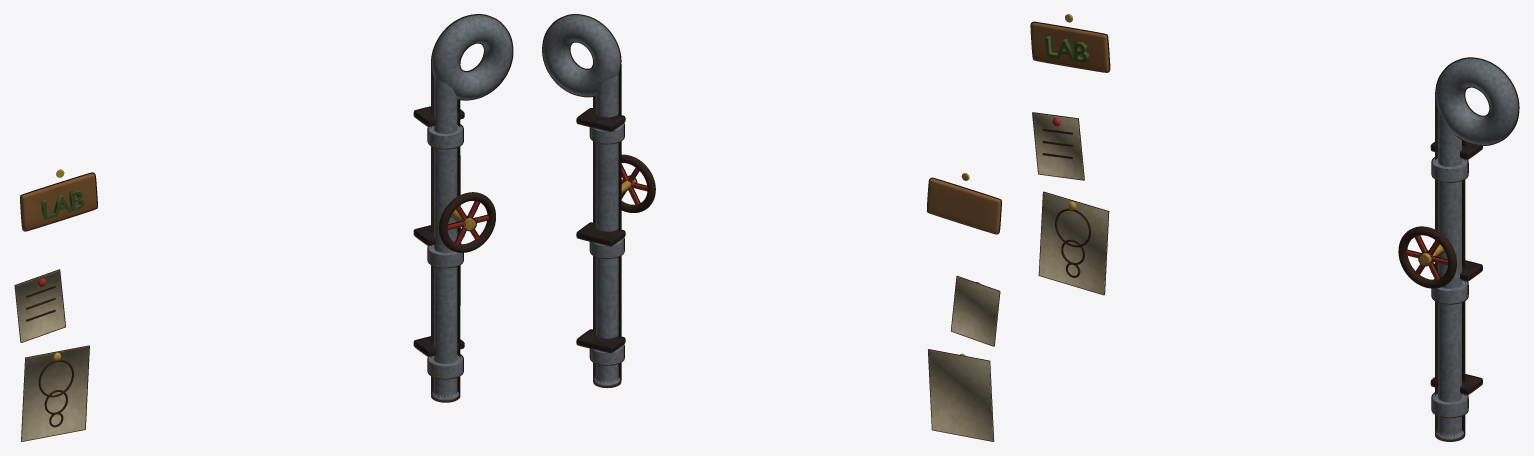
The model's file is Lab_WallDecor.fbx.
3 renders of one model, left to right at view 1: azimuth 30°, elevation 25°; view 2: azimuth 150°, elevation 25°; view 3: azimuth 330°, elevation 25°, orthographic. The views are drawn at different scales.
Visible parts, largest first — view 1: Lab_WallDecor, Lab_WallDecor_Outline; view 2: Lab_WallDecor, Lab_WallDecor_Outline; view 3: Lab_WallDecor, Lab_WallDecor_Outline.
Part boxes in pixels (x1,y1,x2,y2): Lab_WallDecor: (15, 15, 512, 441); Lab_WallDecor_Outline: (14, 14, 513, 441); Lab_WallDecor: (543, 15, 1000, 441); Lab_WallDecor_Outline: (542, 14, 1001, 441); Lab_WallDecor: (1031, 14, 1518, 439); Lab_WallDecor_Outline: (1030, 21, 1519, 441).
Size of the model in its own units: 6.41 by 4.72 by 0.9146.
